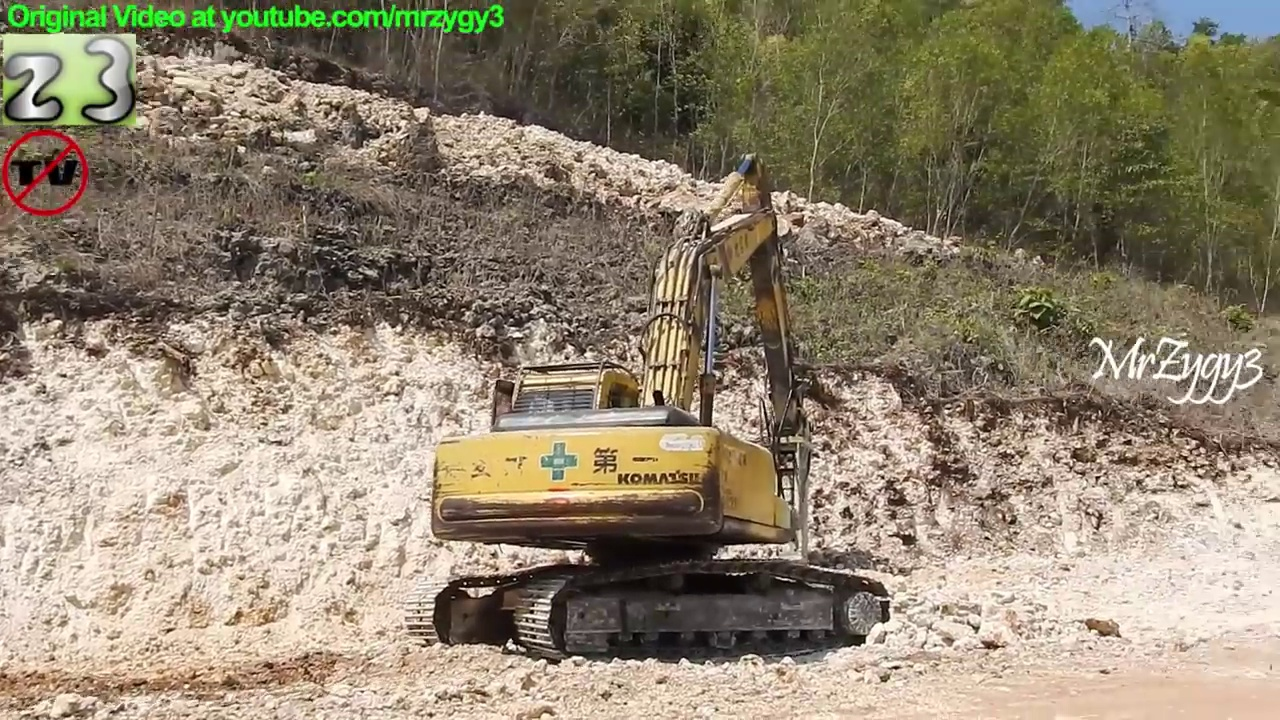excavator breaker: (400, 147, 896, 671)
